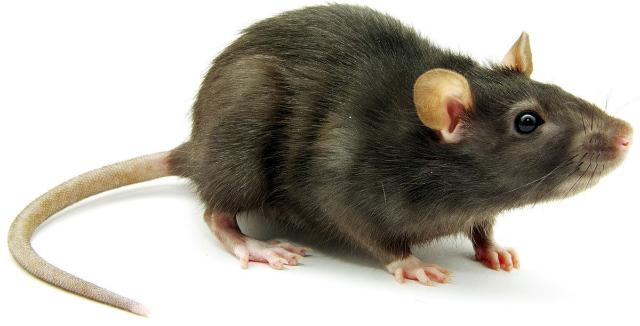rat: (2, 2, 640, 326)
